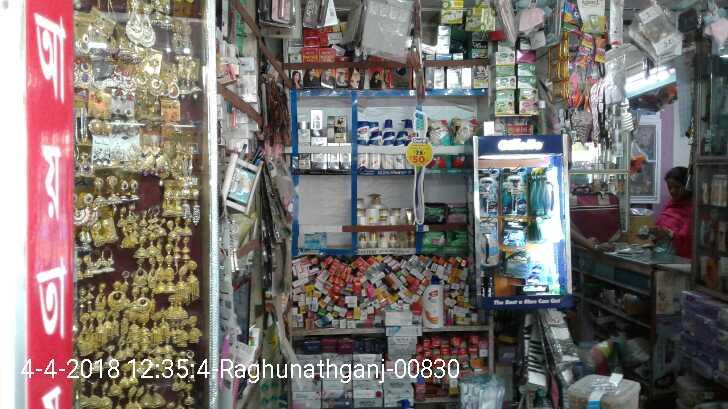gillete: (531, 168, 558, 214), (503, 167, 527, 214), (481, 169, 500, 216), (482, 221, 497, 265), (534, 217, 561, 241), (504, 249, 530, 273), (503, 222, 526, 244)
venus: (305, 235, 320, 247)
